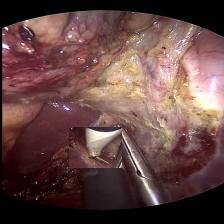Grasper: (107, 120, 172, 194)
Hook: (68, 127, 120, 168)
